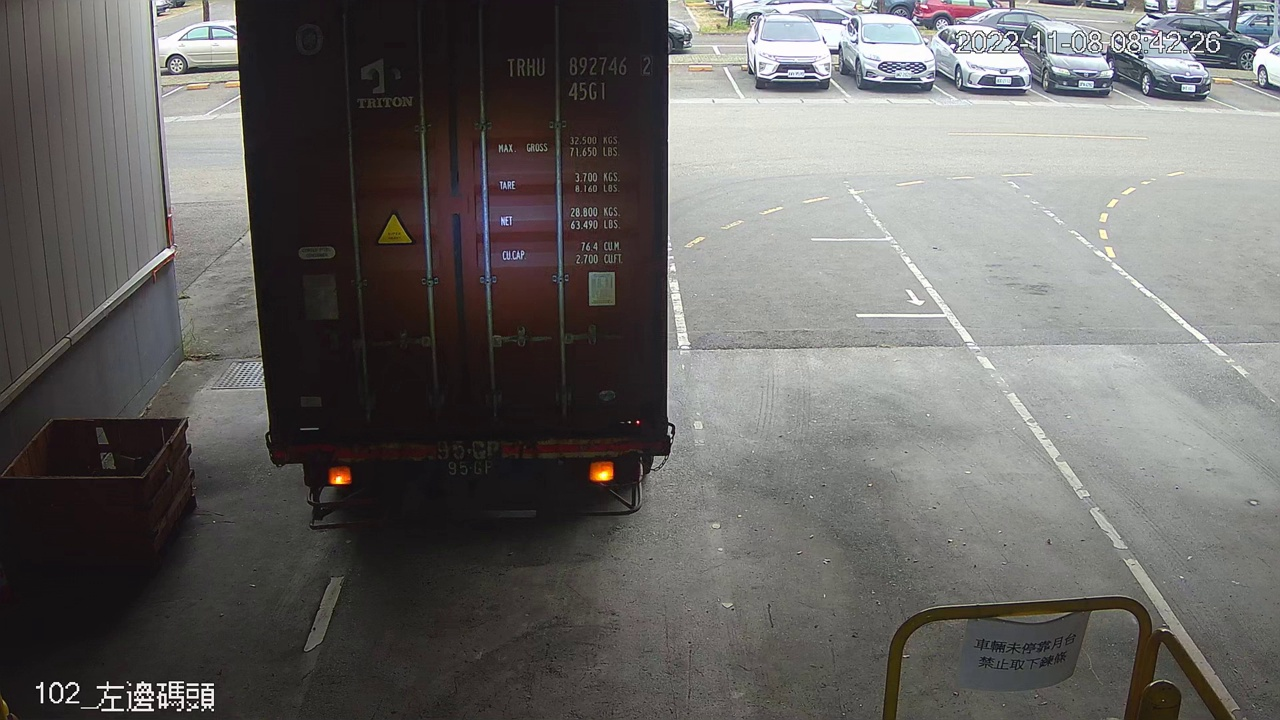container: (497, 47, 659, 110)
